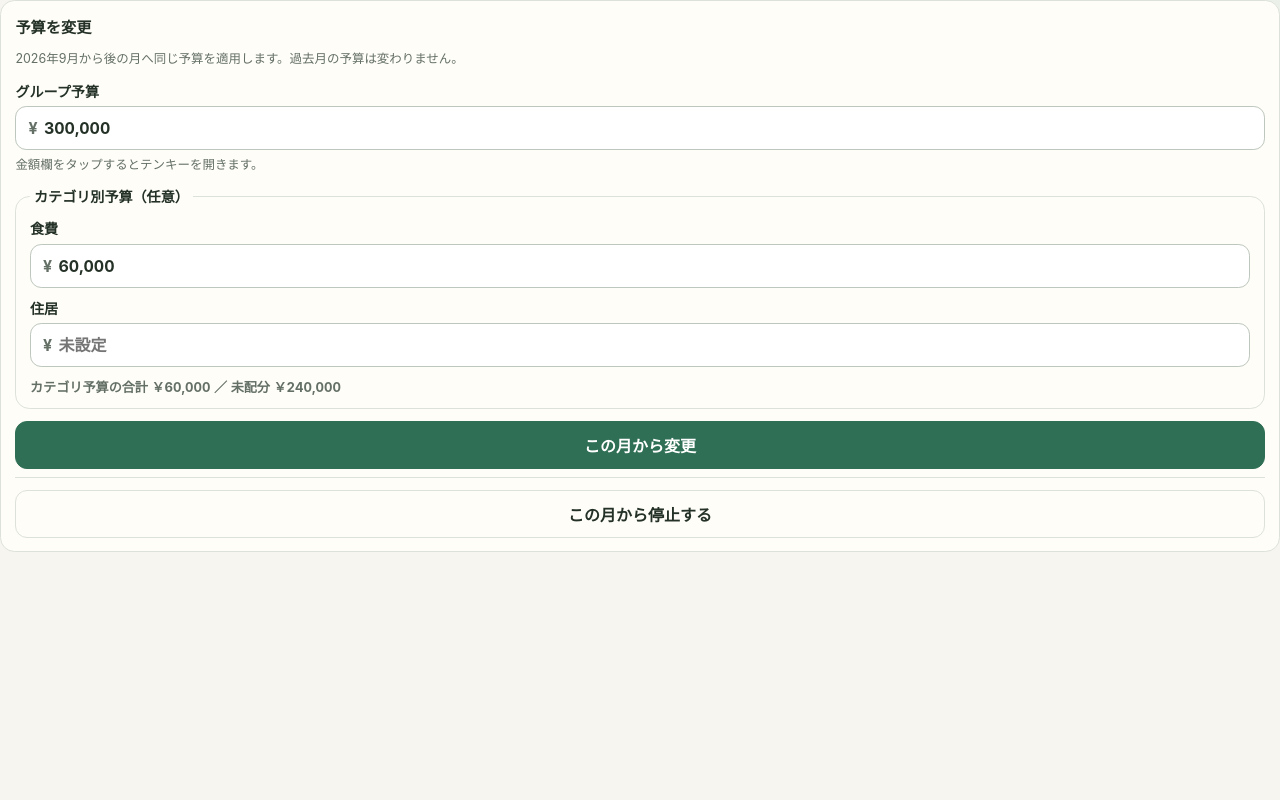
Test: BudgetEditor › 停止は確認操作を経て確定する (AC-BUD-006-1)
Check: the button "停止を確定する" is not shown
Click the button "この月から停止する" at (640, 514), box x1=15 y1=490 x2=1265 y2=538
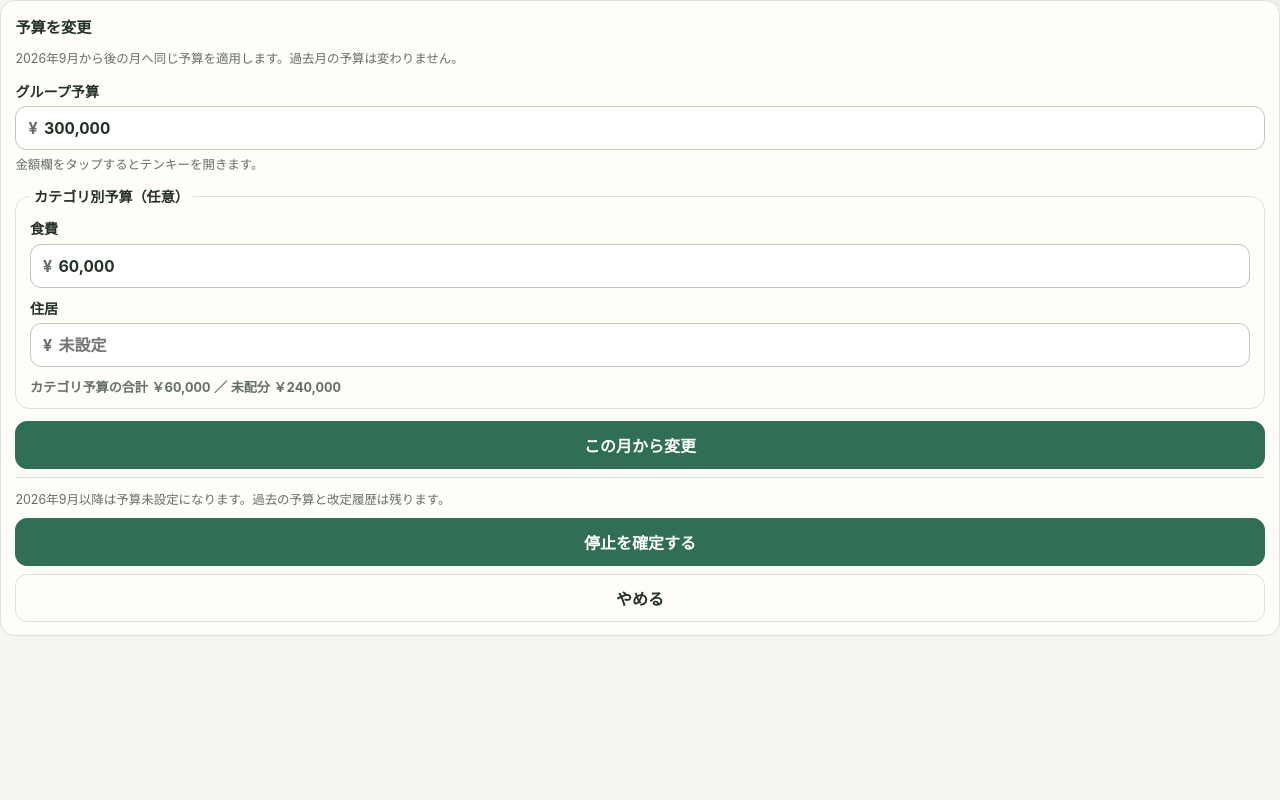
Check: the button "停止を確定する" is shown, box x1=15 y1=518 x2=1265 y2=566
Check: the text "2026年9月以降は予算未設定" is shown, box x1=15 y1=492 x2=450 y2=507
